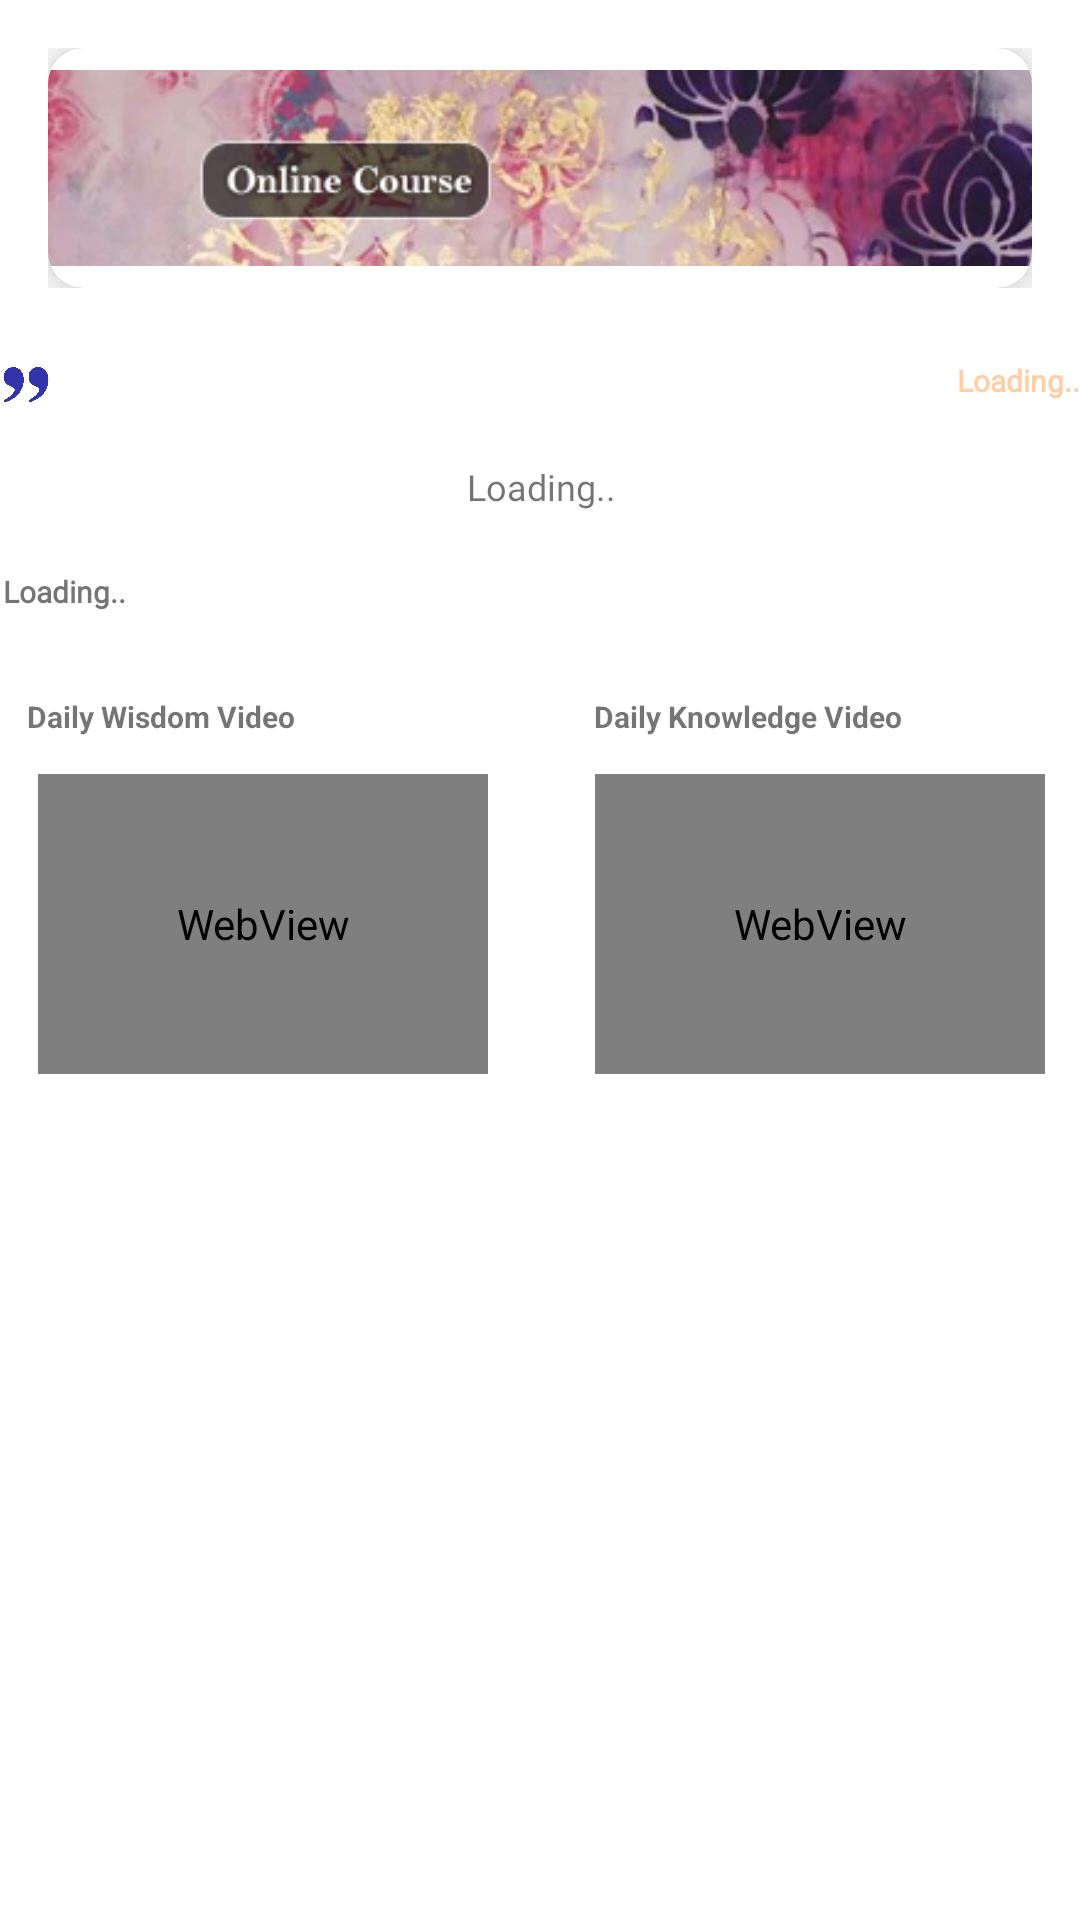

Icons on this 1080*1920 Android screen, each with the point to tap as (x,y):
quatation: (26,384)
